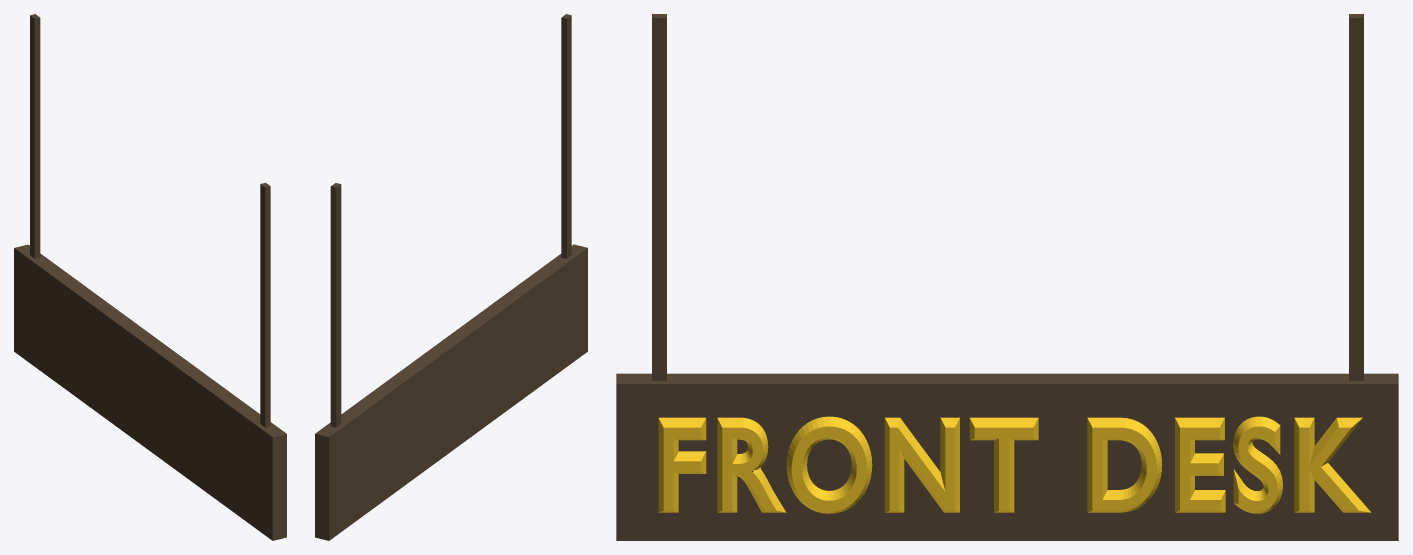
Rendered from SM_FrontDesk_Sign_01.glb.
3 views of the same model, side by side, from view 1: azimuth 30°, elevation 25°; view 2: azimuth 150°, elevation 25°; view 3: azimuth 270°, elevation 25° (orthographic). The views are drawn at different scales.
Visible parts, largest first — view 1: SM_FrontDesk_Sign_01; view 2: SM_FrontDesk_Sign_01; view 3: SM_FrontDesk_Sign_01.
Part boxes in pixels (bbox=[...]): SM_FrontDesk_Sign_01: bbox=[14, 14, 286, 540]; SM_FrontDesk_Sign_01: bbox=[315, 14, 587, 540]; SM_FrontDesk_Sign_01: bbox=[616, 14, 1398, 540].
Bounding box in the file's own units: 0.0612 × 1.03 × 1.4.
Materials: 1 (1 with a texture image).
